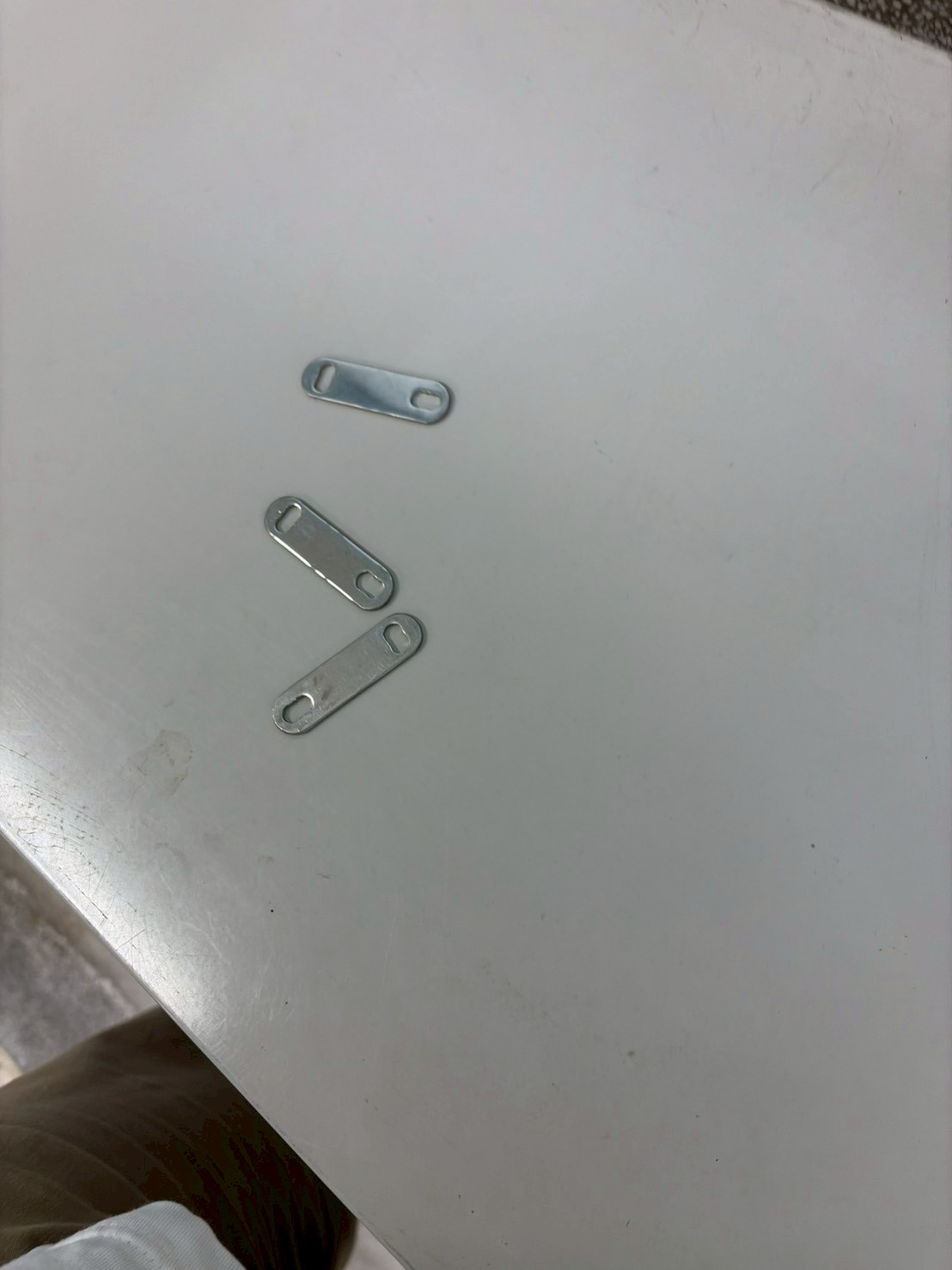Fe: (260, 698, 441, 759), (310, 344, 469, 405), (286, 484, 443, 543), (378, 288, 382, 291)
